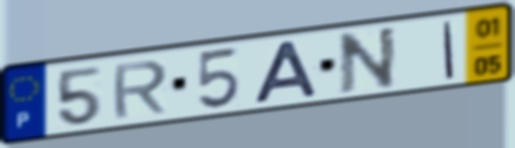5: (54, 63, 105, 126), (196, 46, 242, 111)
A: (250, 38, 322, 107)
I: (441, 19, 457, 81)
N: (335, 24, 399, 97)
R: (110, 58, 171, 122)
